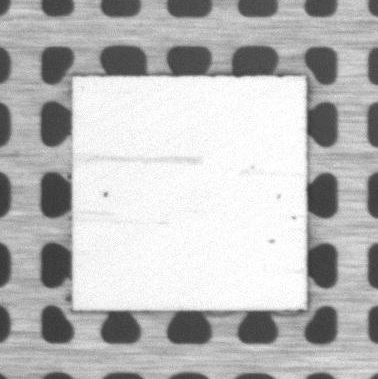DIE_INK: (84, 152, 206, 168), (80, 212, 171, 225), (266, 235, 279, 248), (101, 188, 111, 201), (275, 191, 284, 204), (290, 212, 298, 223)
